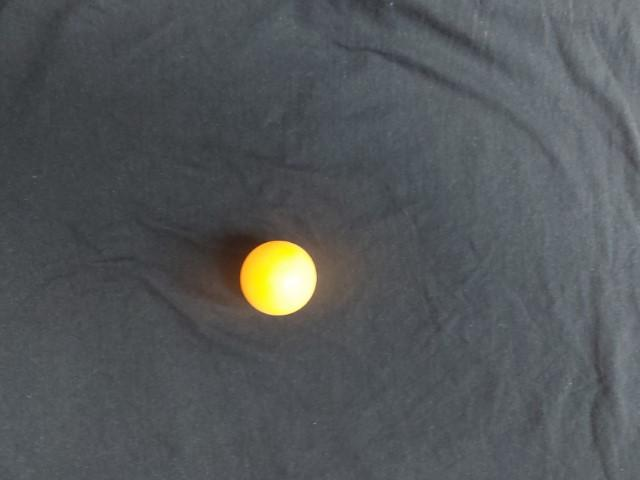oball: (318, 161, 406, 246)
